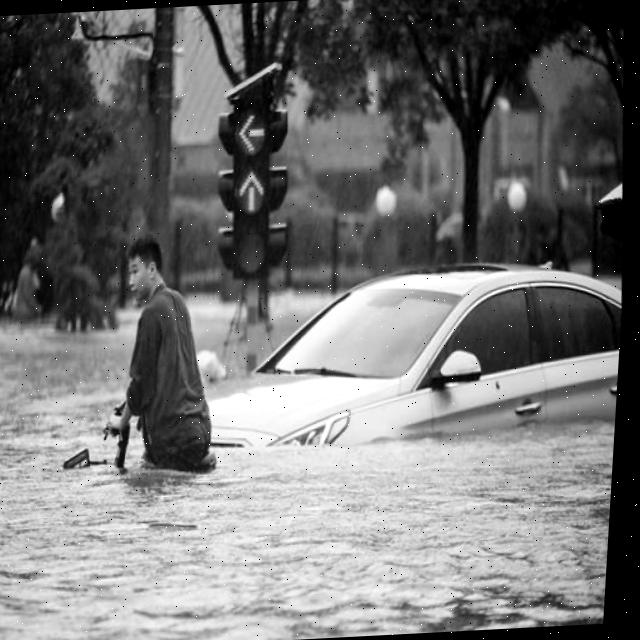civilian: (63, 214, 264, 503)
